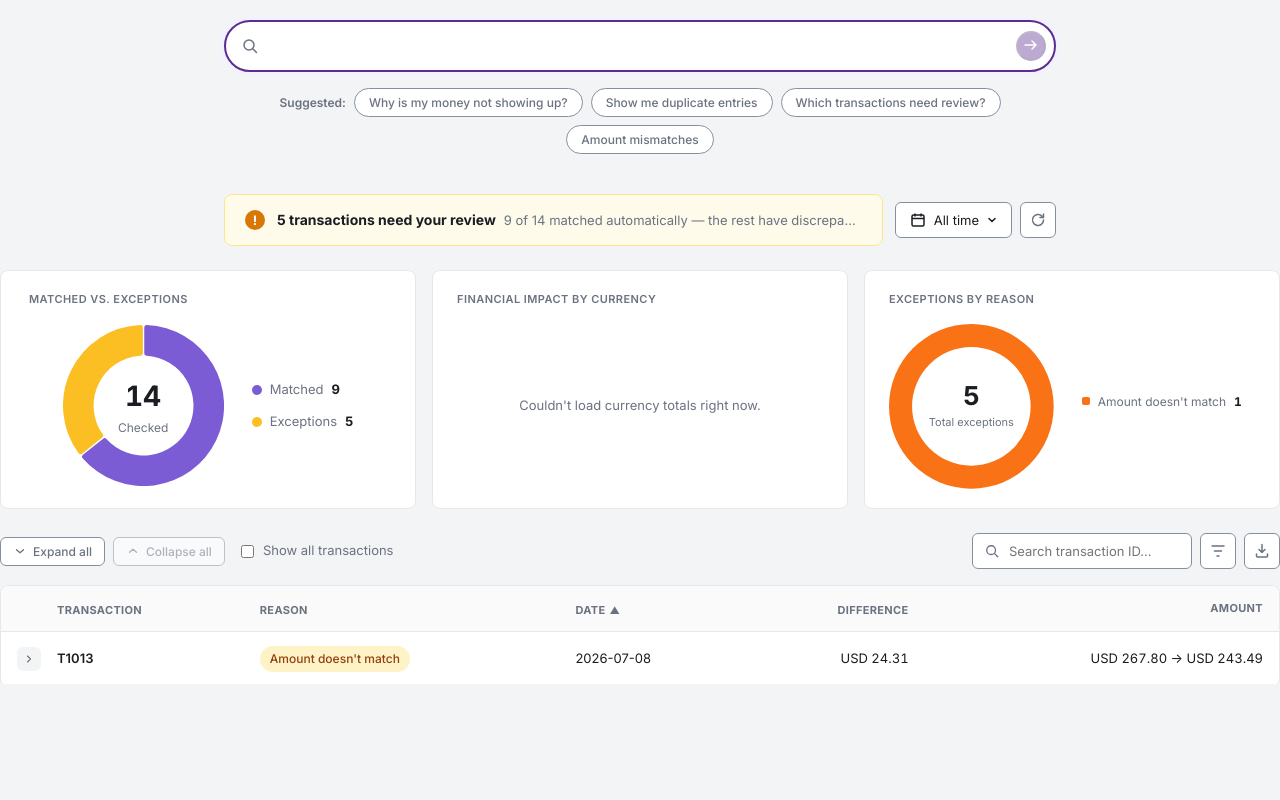
Test: Dashboard › filtering by reason re-fetches and re-renders the table with the new data
The image size is (1280, 800).
Expected: the cell "T1013" is shown, [41,632,244,684]
Click the button named "filter exceptions" at (1218, 551), box [1200,533,1236,569]
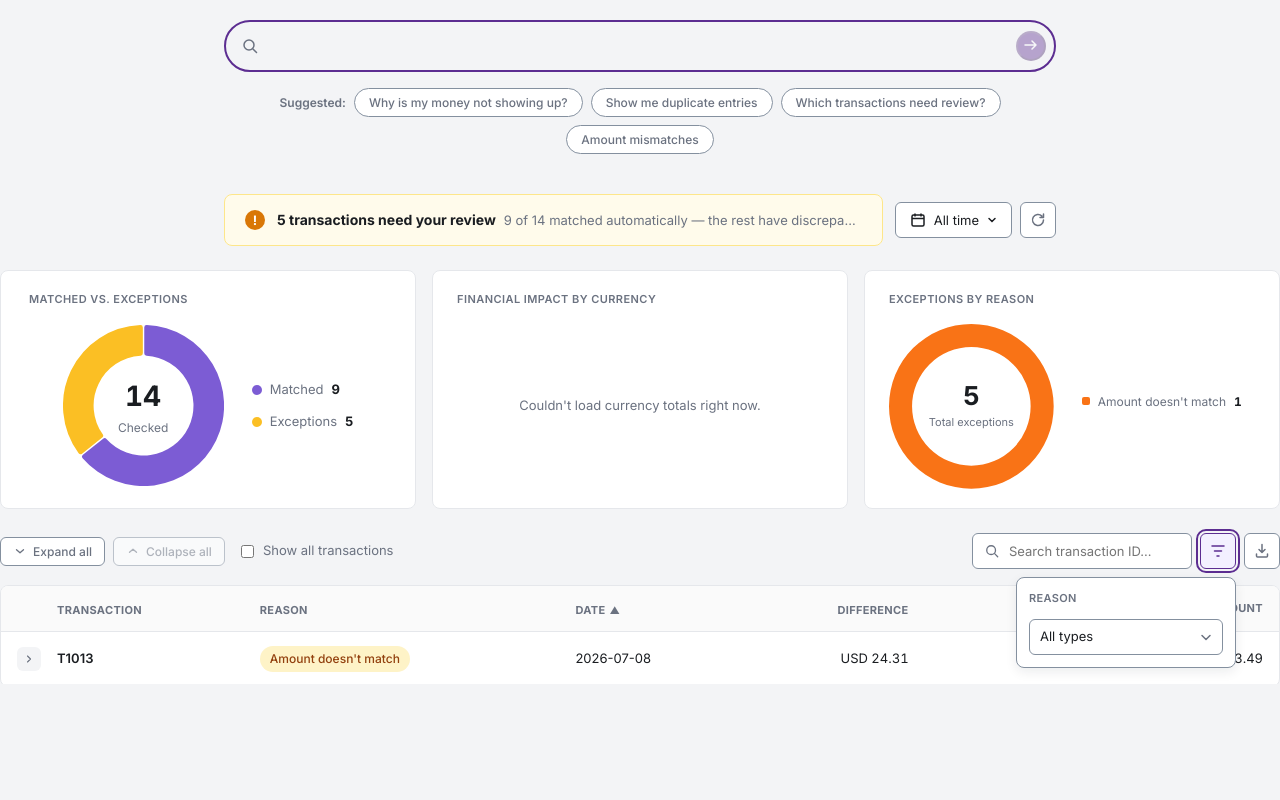
Select "Duplicate entry" in the dropdown labelled "Reason" at (1126, 637), box [1029,619,1223,655]
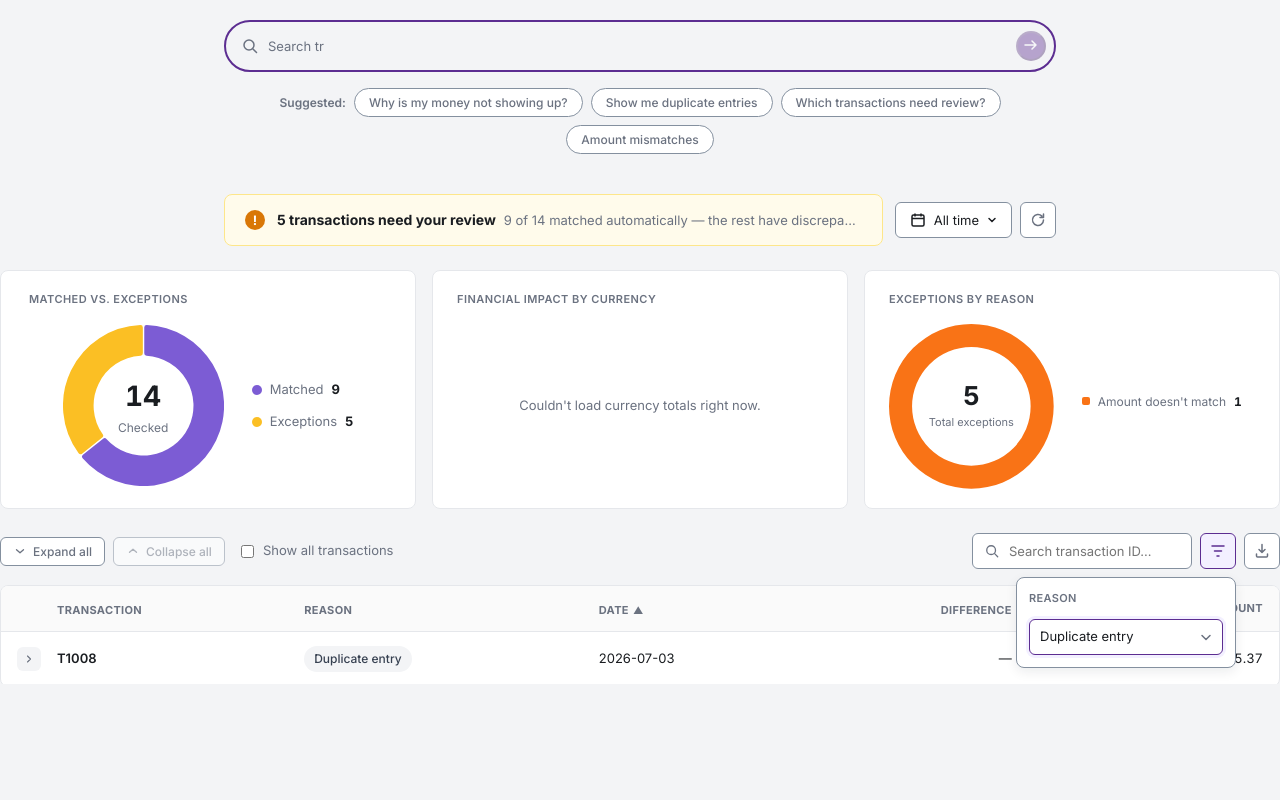
Result: the cell "T1008" is shown at [41,632,288,684]
Result: the cell "T1013" is gone
